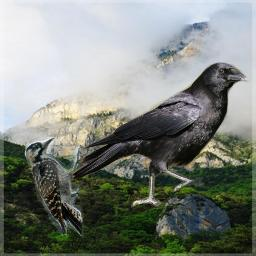Crow: (72, 61, 253, 209)
Woodpecker: (24, 137, 88, 238)
